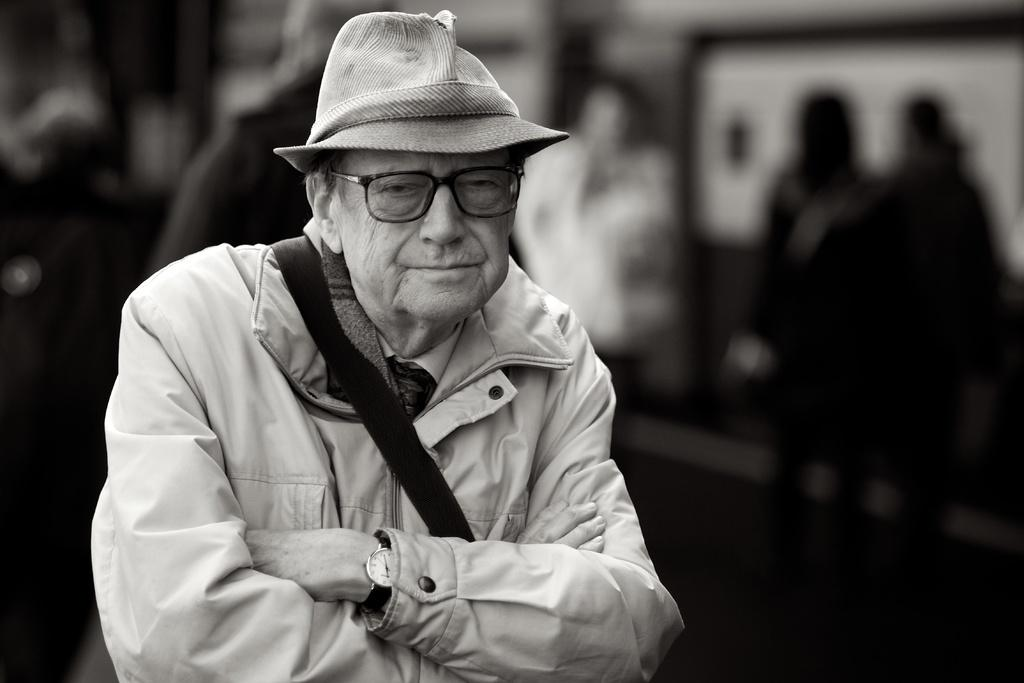Hat: (274, 13, 572, 178)
